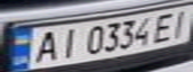0: (81, 22, 106, 55)
3: (118, 17, 139, 50), (103, 20, 124, 52)
4: (133, 15, 157, 47)
A: (27, 28, 63, 63)
E: (148, 10, 181, 43)
I: (54, 25, 81, 60), (169, 7, 193, 39)
